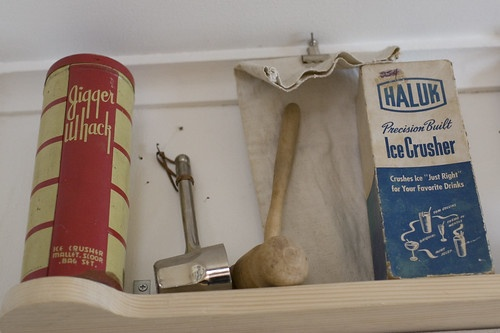hammer: (231, 100, 306, 288)
